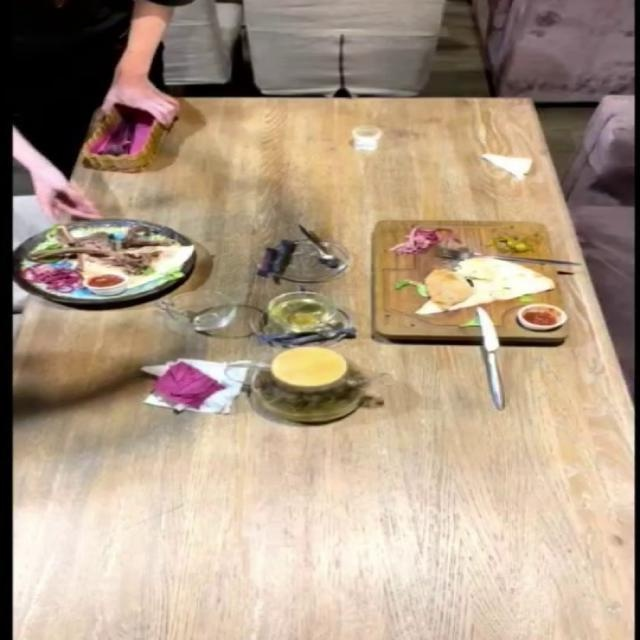meat: (369, 223, 573, 349), (6, 203, 178, 338)
tea: (253, 349, 378, 420)
